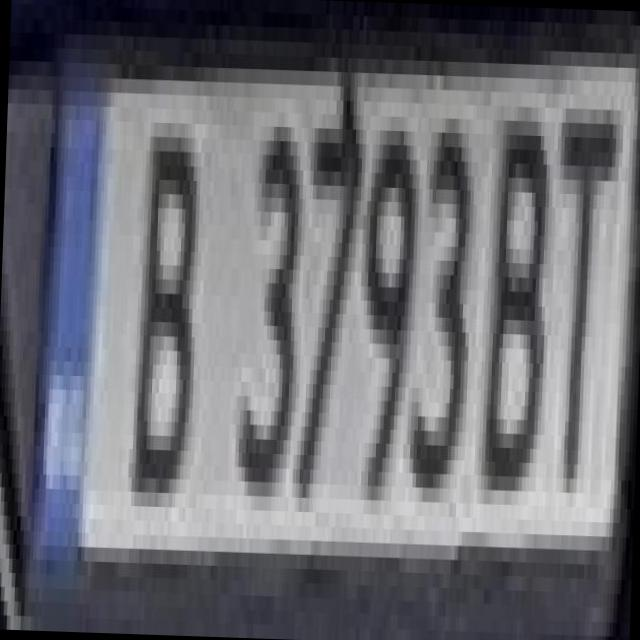3: (220, 82, 310, 482), (398, 89, 477, 488)
7: (285, 85, 371, 485)
9: (343, 86, 422, 486)
B: (118, 92, 214, 494), (466, 91, 549, 491)
T: (538, 64, 625, 493)
